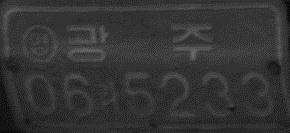0: (24, 73, 58, 117)
2: (159, 71, 196, 119)
3: (199, 71, 235, 118), (240, 71, 275, 118)
5: (123, 71, 157, 118)
6: (62, 73, 94, 118)
광주_D: (64, 23, 216, 64)
라: (94, 78, 121, 113)
영: (19, 23, 60, 64)
